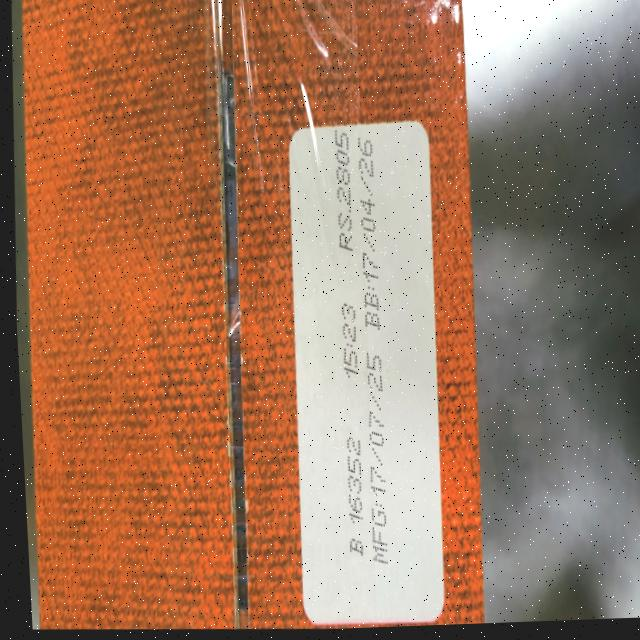BB: (349, 129, 393, 338)
Batch: (340, 430, 373, 567)
MFG: (356, 346, 408, 570)
RS: (329, 122, 362, 255)
TimeStamp: (334, 294, 365, 385)
